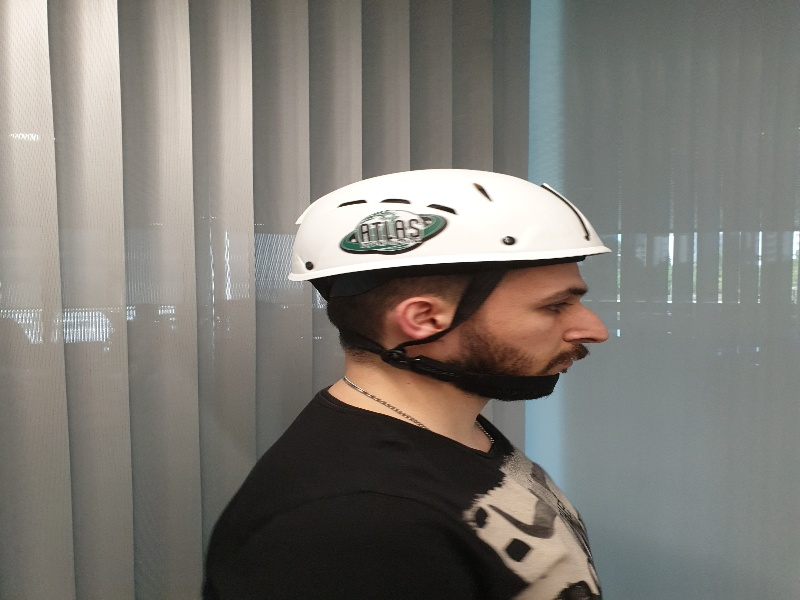Baret: (288, 172, 620, 270)
